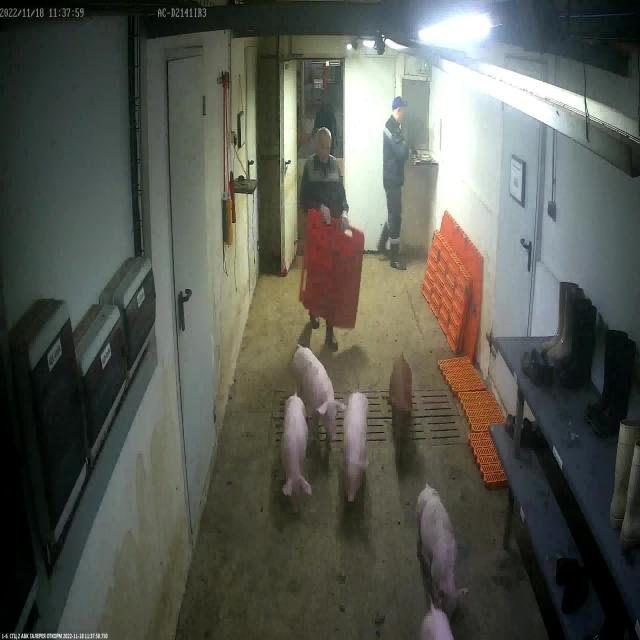pig: (418, 486, 468, 612), (292, 347, 343, 442), (282, 393, 312, 507), (342, 392, 370, 513), (388, 359, 412, 456), (418, 605, 457, 640)
